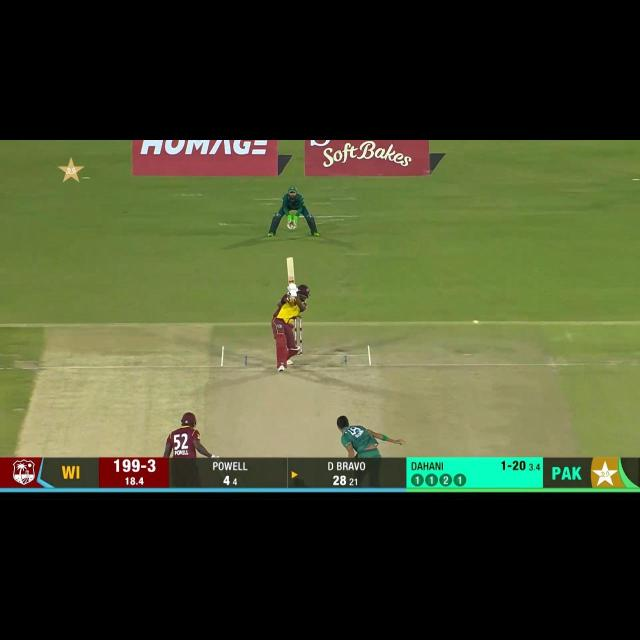bat: (286, 257, 296, 285)
toe: (286, 256, 294, 265)
